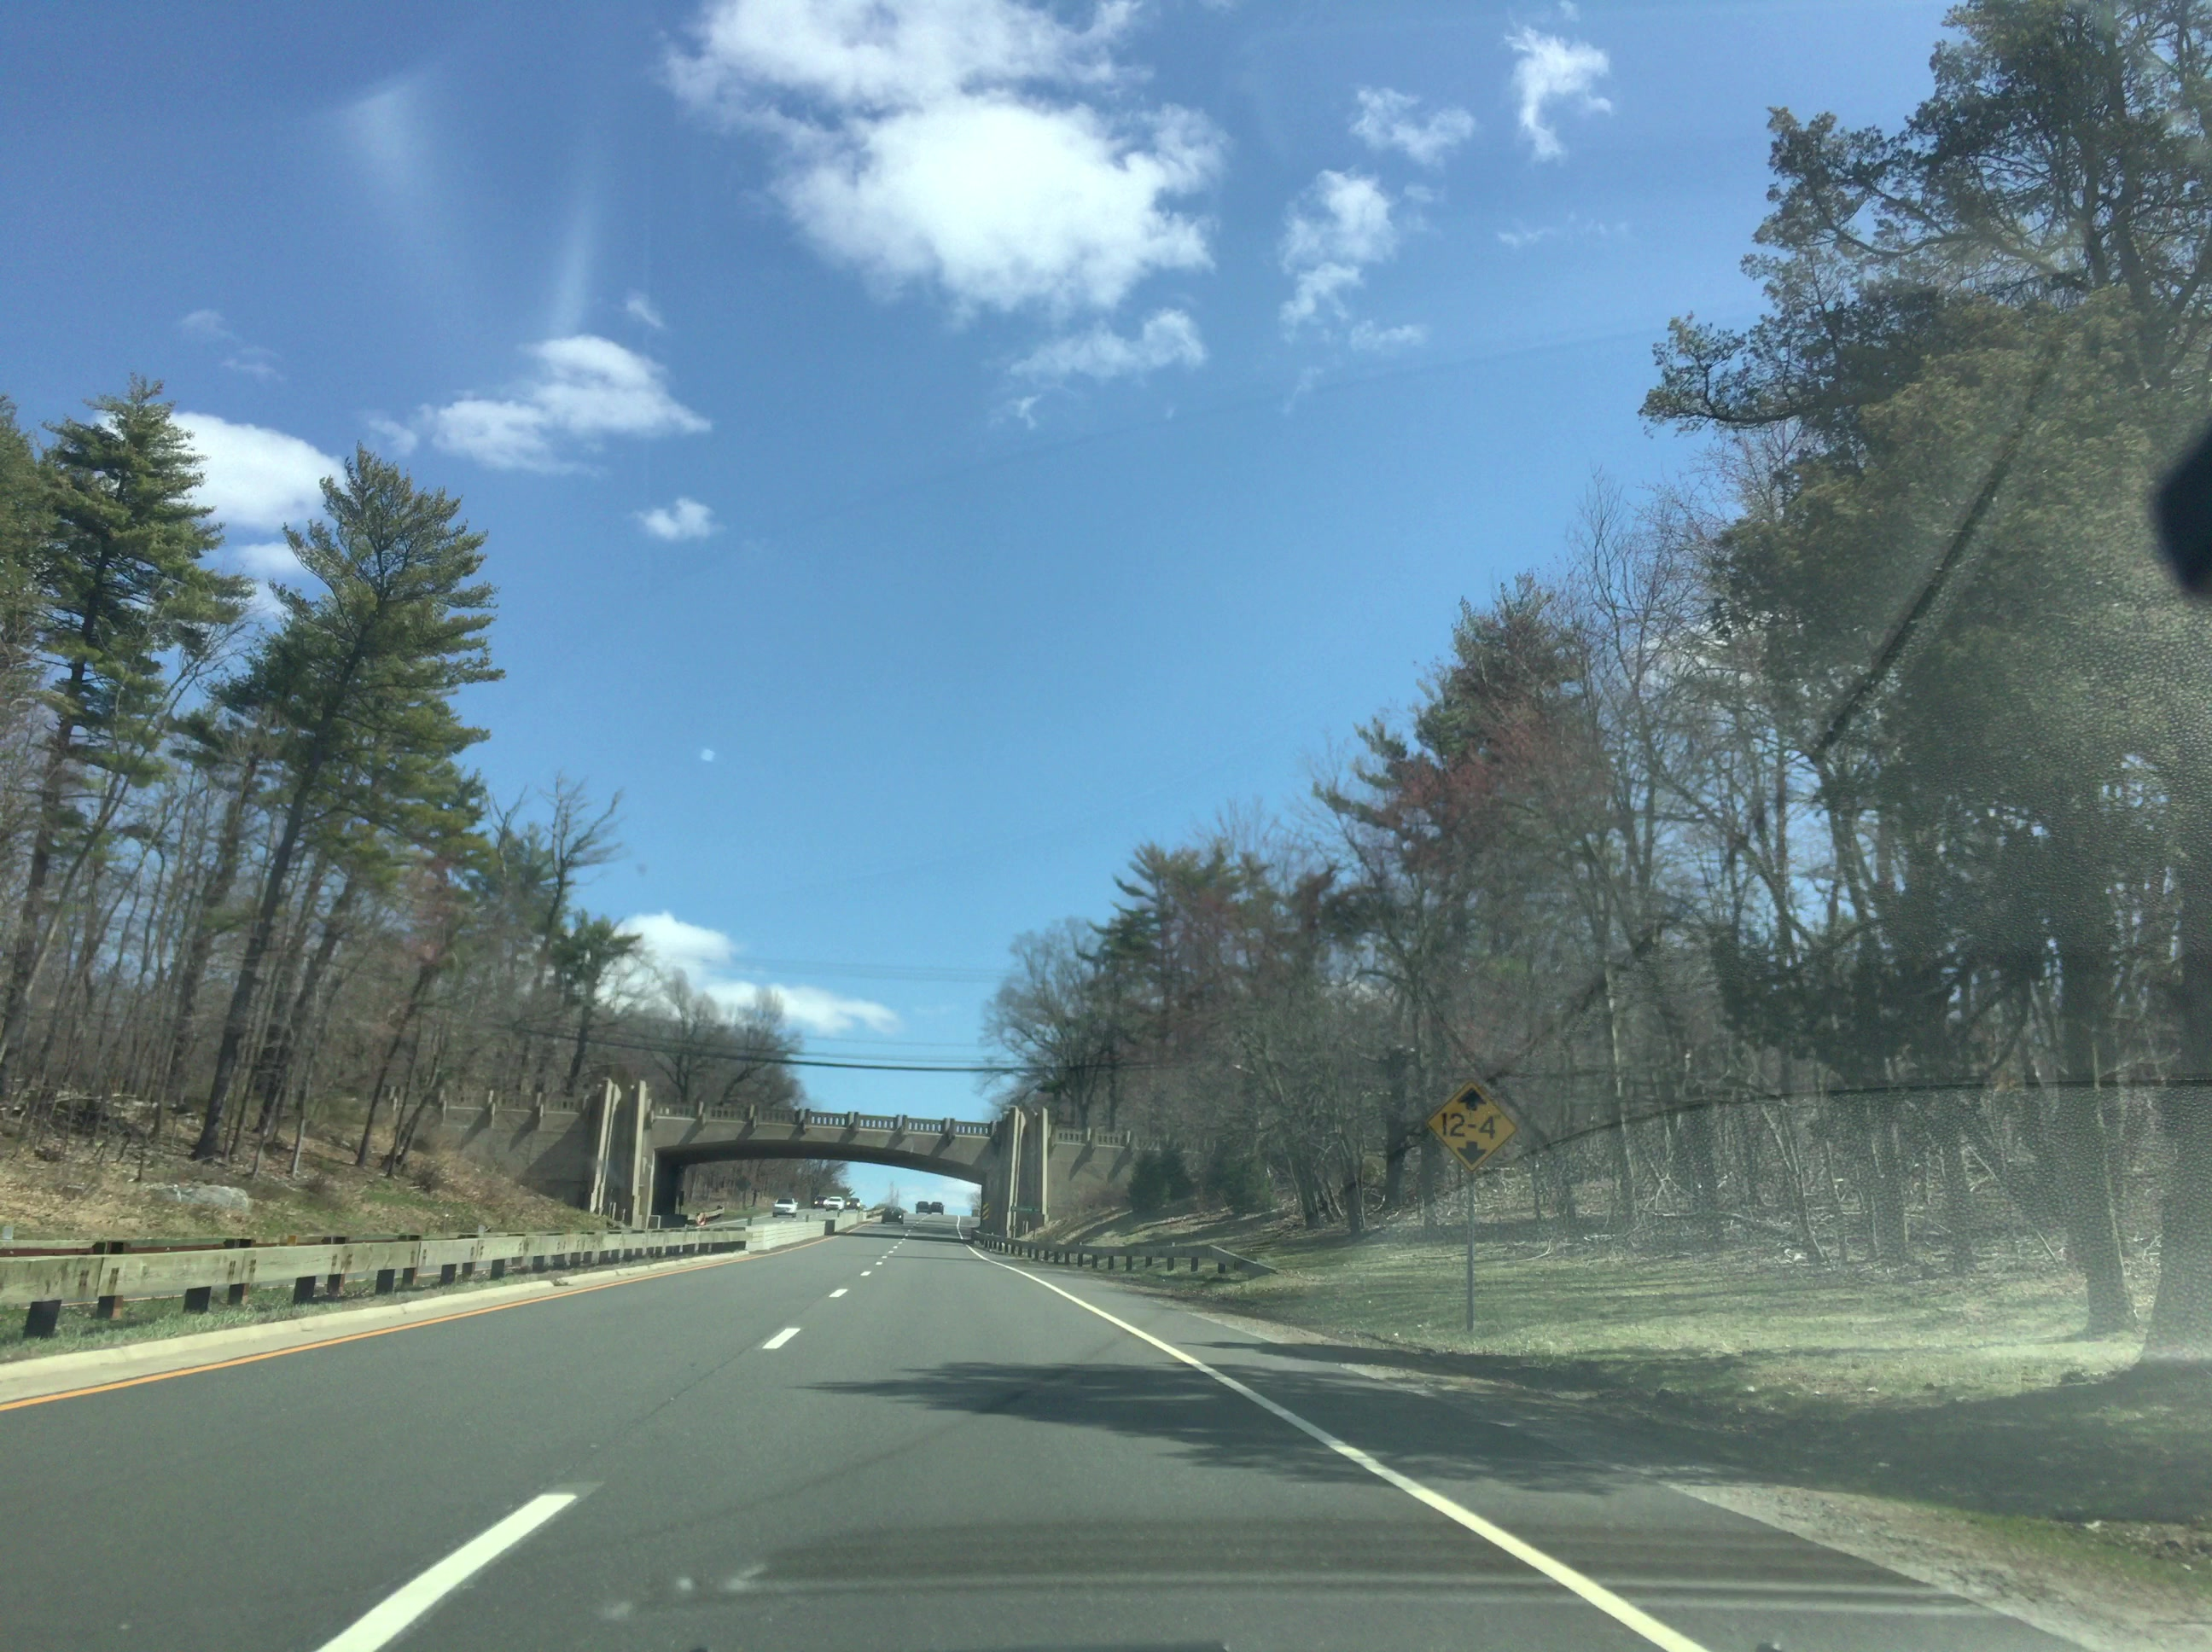low-clearance-sign: (1424, 1081, 1518, 1173)
